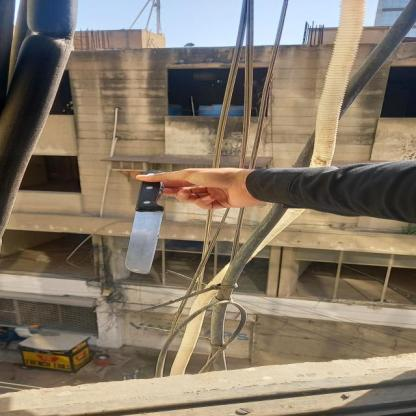Knife: (113, 166, 167, 280)
